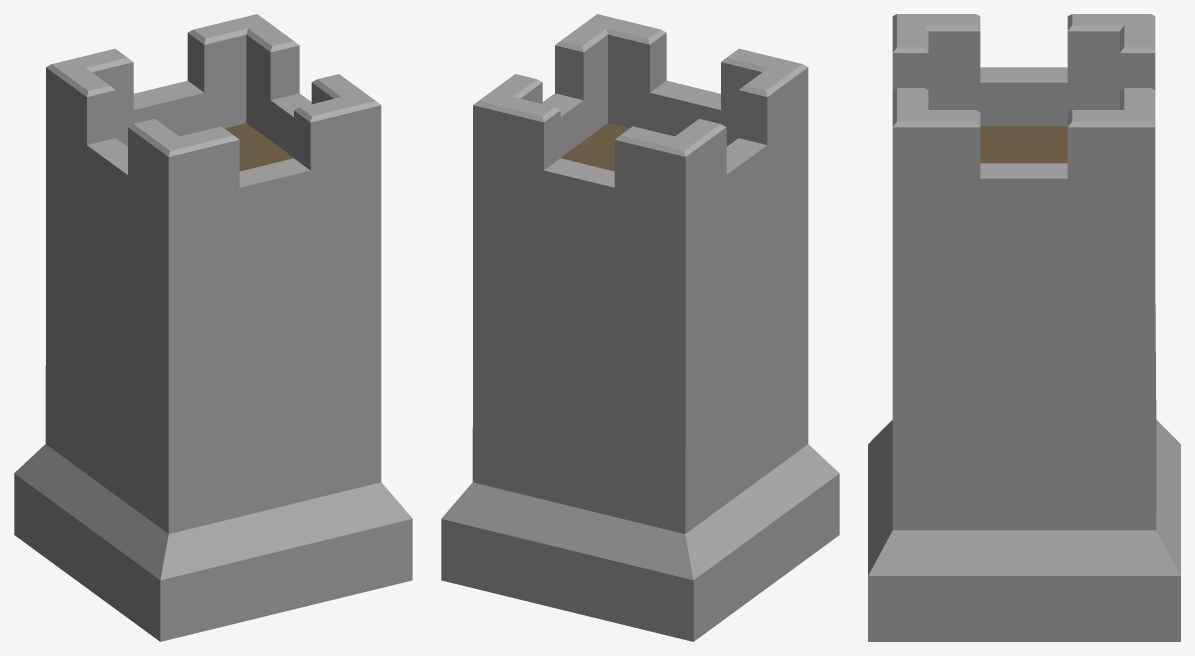
Rendered from wall_4.fbx.
3 views of the same model, side by side, from view 1: azimuth 30°, elevation 25°; view 2: azimuth 150°, elevation 25°; view 3: azimuth 270°, elevation 25° (orthographic). The views are drawn at different scales.
Parts seen in each view (by area): view 1: polySurface35; view 2: polySurface35; view 3: polySurface35.
Part boxes in pixels (x1=…): polySurface35: x1=14, y1=14, x2=412, y2=641; polySurface35: x1=441, y1=14, x2=839, y2=641; polySurface35: x1=868, y1=14, x2=1180, y2=641.
Bounding box in the file's own units: 75.94 × 137 × 76.21.
